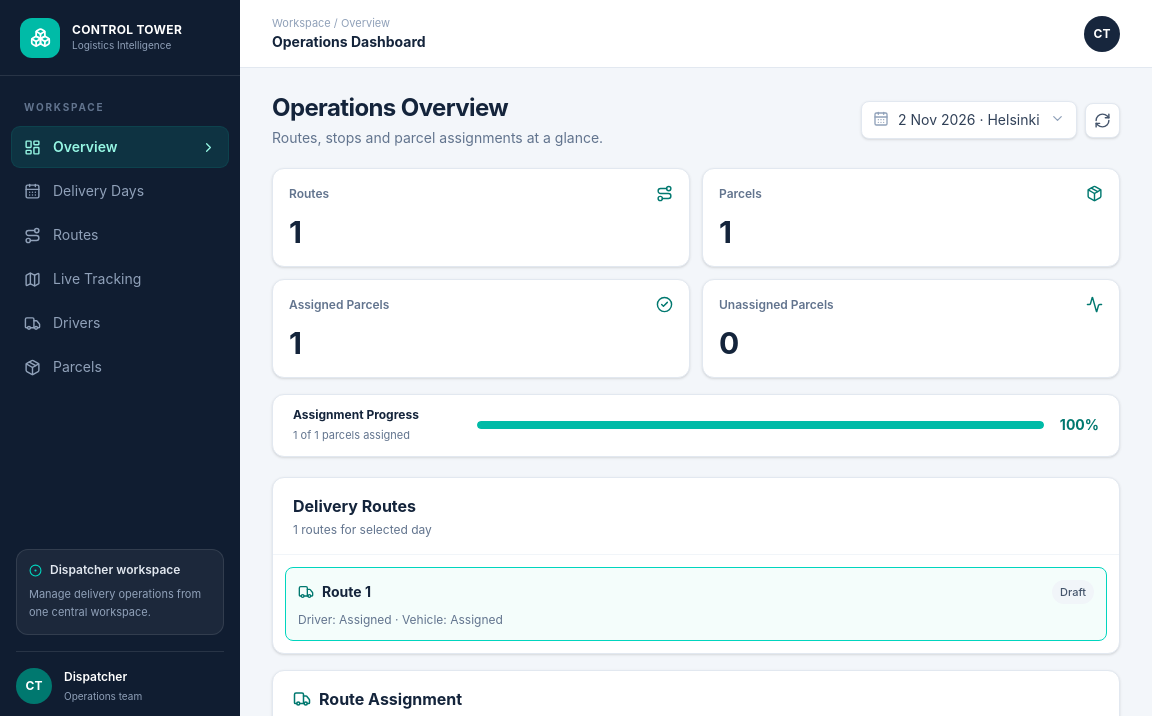
Test case: Dispatcher overview › does not display stale route data when switching delivery days
Select "3 Nov 2026 · Espoo" in the dropdown named "Select delivery day" at (969,120), box x1=861 y1=101 x2=1077 y2=139
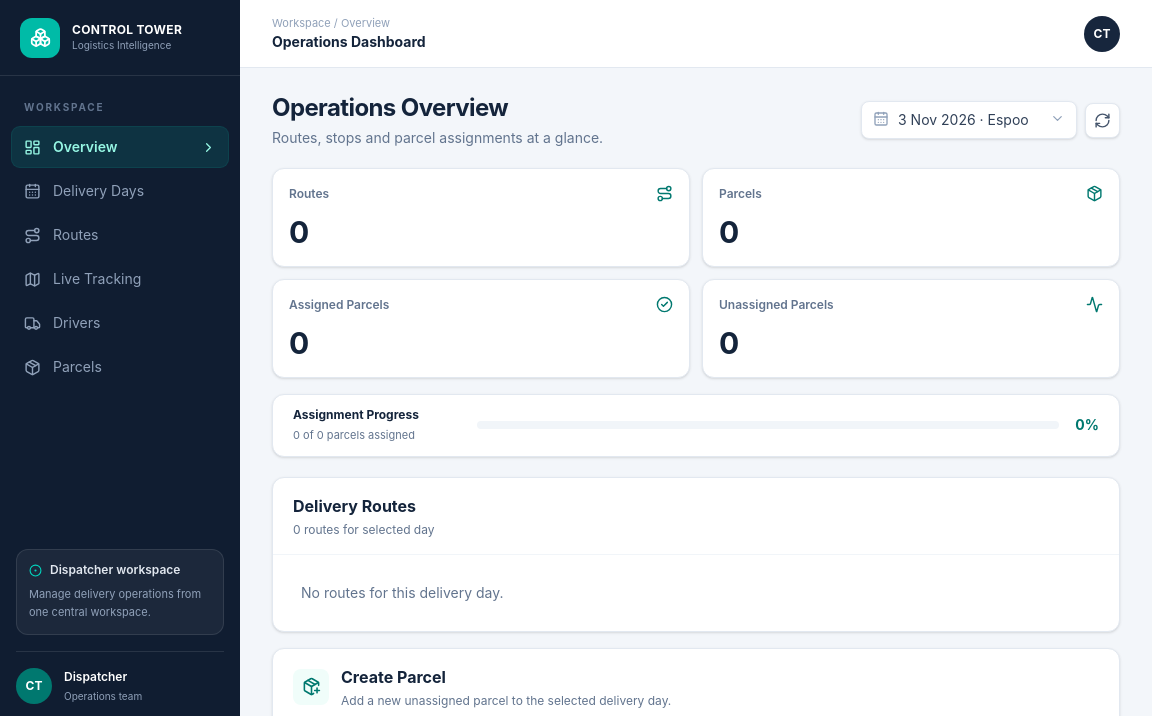
Check: the text "No routes for this delivery day." is shown, box x1=301 y1=584 x2=504 y2=600
